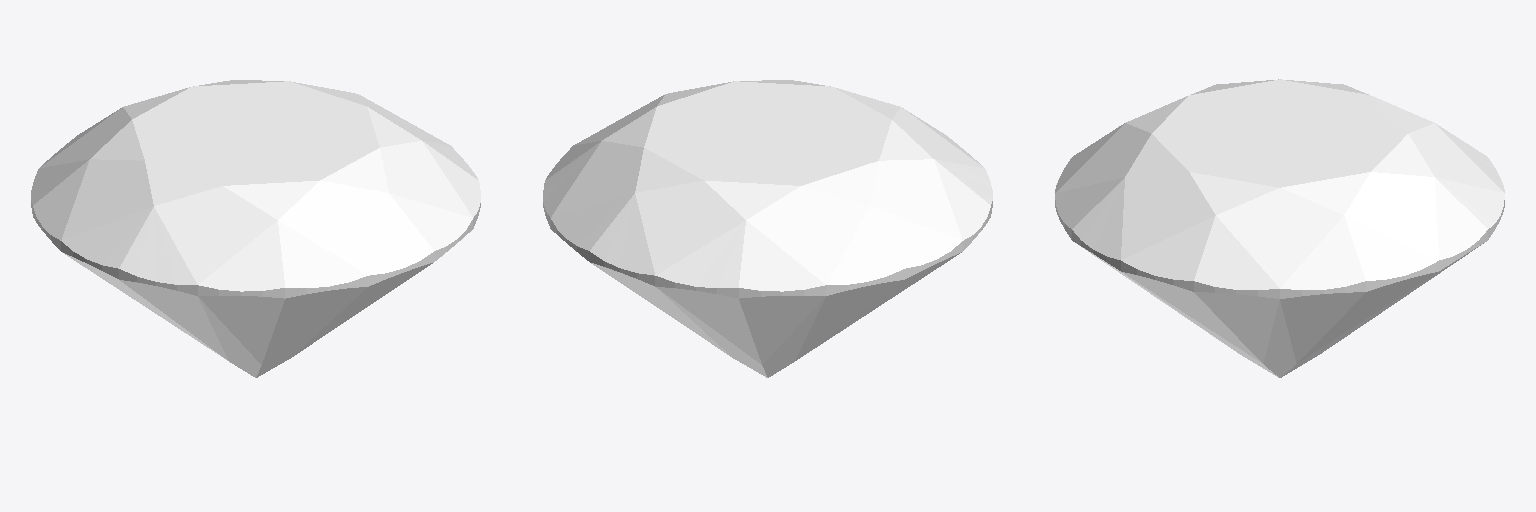
File: compassRoseGem.obj
3 views of the same model, side by side, from view 1: azimuth 30°, elevation 25°; view 2: azimuth 150°, elevation 25°; view 3: azimuth 270°, elevation 25° (orthographic).
Bounding box in the file's own units: 2.5 × 1.5 × 2.5.